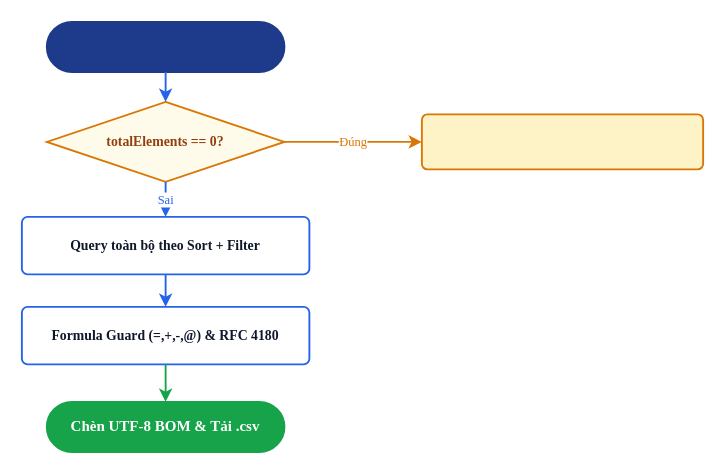
The diagram is 726 pixels wide and 475 high, and some of its shapes have lost their labels. Here are the shapes that lost their labels. From the top down, the centre of each, then its label:
point (165, 46): Nhấn Export CSV
point (562, 141): Hiện Banner (Dừng tải)
